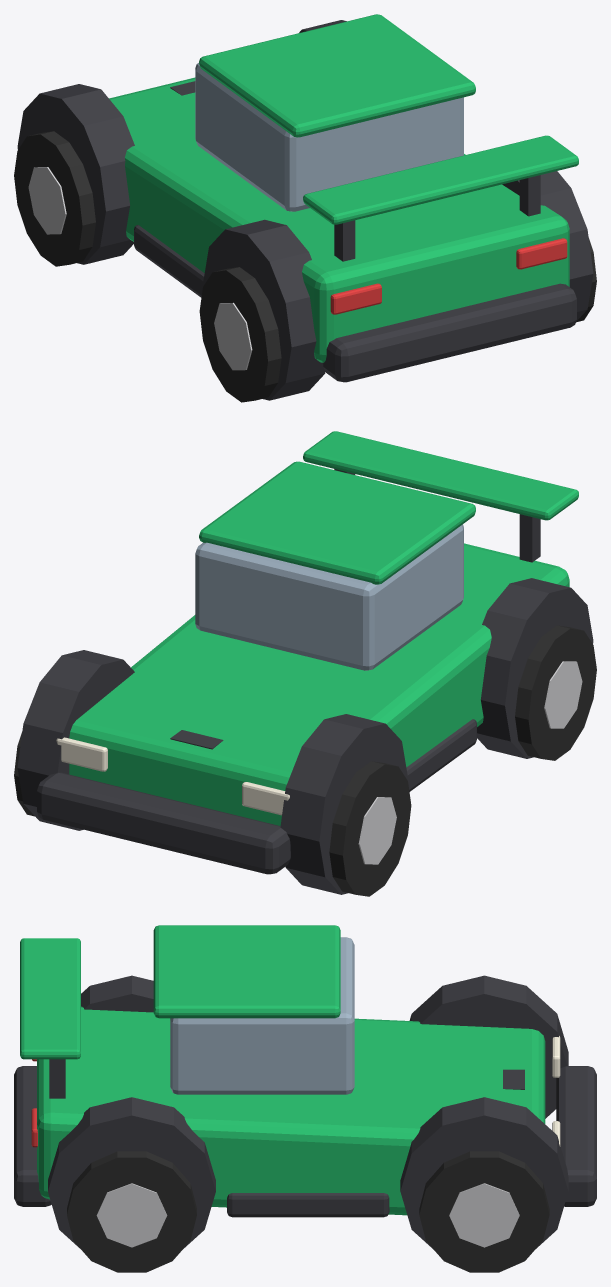
File: car.glb
3 renders of one model, top to bottom at view 1: azimuth 30°, elevation 25°; view 2: azimuth 150°, elevation 25°; view 3: azimuth 270°, elevation 25°, orthographic. The views are drawn at different scales.
Visible parts, largest first — view 1: car_body, wheel_RL, wheel_FL; view 2: car_body, wheel_FL, wheel_RL; view 3: car_body, wheel_FR, wheel_RR.
Part boxes in pixels (x1=…): car_body: x1=17, y1=14, x2=593, y2=400; wheel_RL: x1=199, y1=267, x2=281, y2=402; wheel_FL: x1=14, y1=131, x2=95, y2=266; car_body: x1=17, y1=431, x2=593, y2=894; wheel_FL: x1=329, y1=761, x2=411, y2=896; wheel_RL: x1=515, y1=625, x2=596, y2=760; car_body: x1=14, y1=925, x2=596, y2=1249; wheel_FR: x1=419, y1=1151, x2=549, y2=1272; wheel_RR: x1=67, y1=1151, x2=196, y2=1272.
Size of the model in its own units: 2.68 by 1.89 by 4.3.
